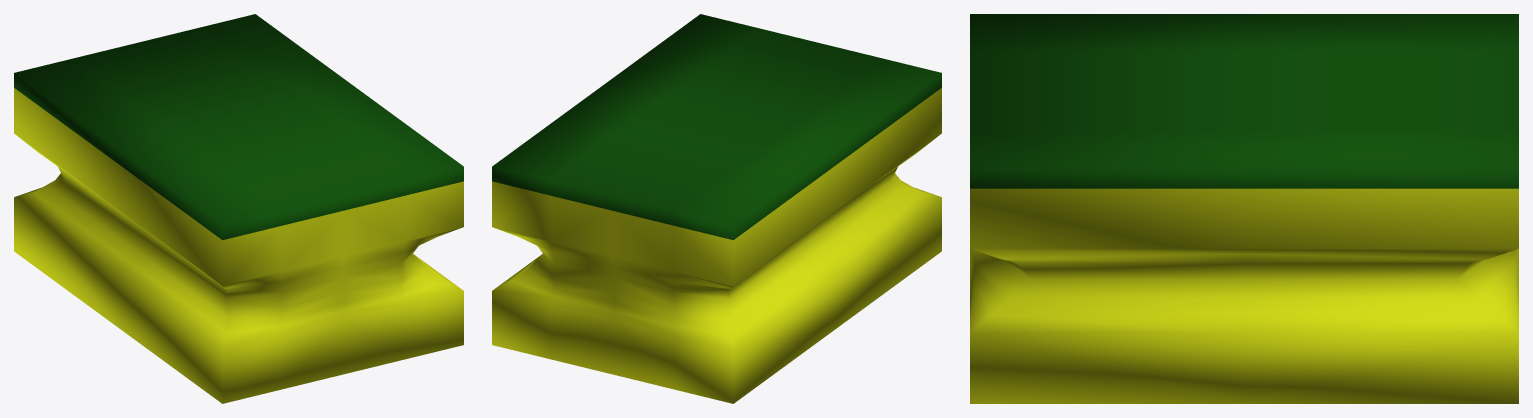
The model's file is CleaningSponge.glb.
3 views of the same model, side by side, from view 1: azimuth 30°, elevation 25°; view 2: azimuth 150°, elevation 25°; view 3: azimuth 270°, elevation 25° (orthographic). The views are drawn at different scales.
Visible parts, largest first — view 1: Cube; view 2: Cube; view 3: Cube.
Part boxes in pixels (x1,y1,x2,y2): Cube: (14, 14, 463, 403); Cube: (492, 14, 941, 403); Cube: (970, 14, 1518, 403).
Size of the model in its own units: 0.5171 by 0.3653 by 0.7733.
